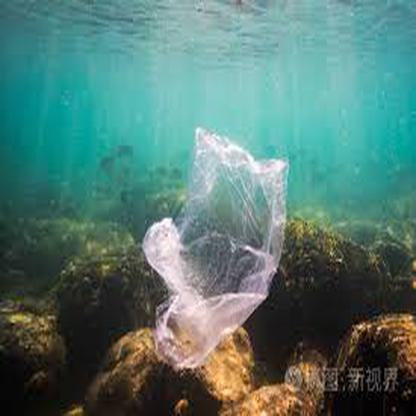plastic bag: (142, 122, 289, 366)
